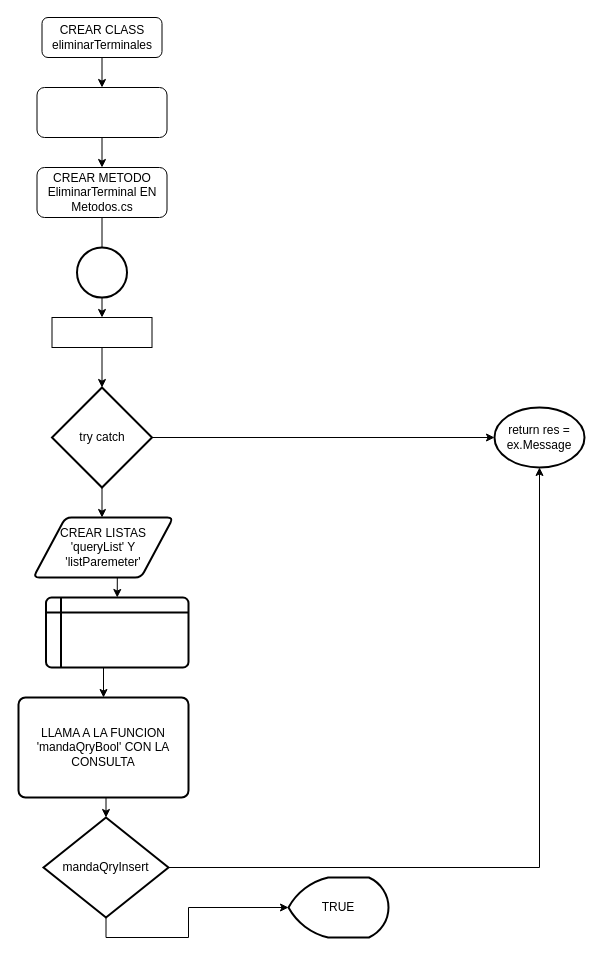
Image size: 602x963. Some labels were removed from this diagram. The box of each missing label's shape, as (x1, y1, x2, y2) in pixels:
CREAR METODO POST Eliminar_Terminales: (36, 86, 167, 138)
DELETE FROM sales_terminal: (44, 596, 189, 668)
INICIO: (76, 246, 128, 298)
res = "", version = 0: (51, 316, 152, 348)
